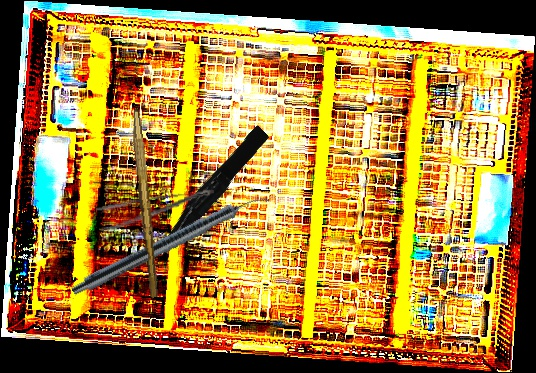Dressing Forceps: (95, 186, 218, 234)
Handpiece: (69, 186, 271, 302)
Scalpel Handle: (126, 108, 163, 299)
Tissue Forceps: (147, 124, 275, 256)
